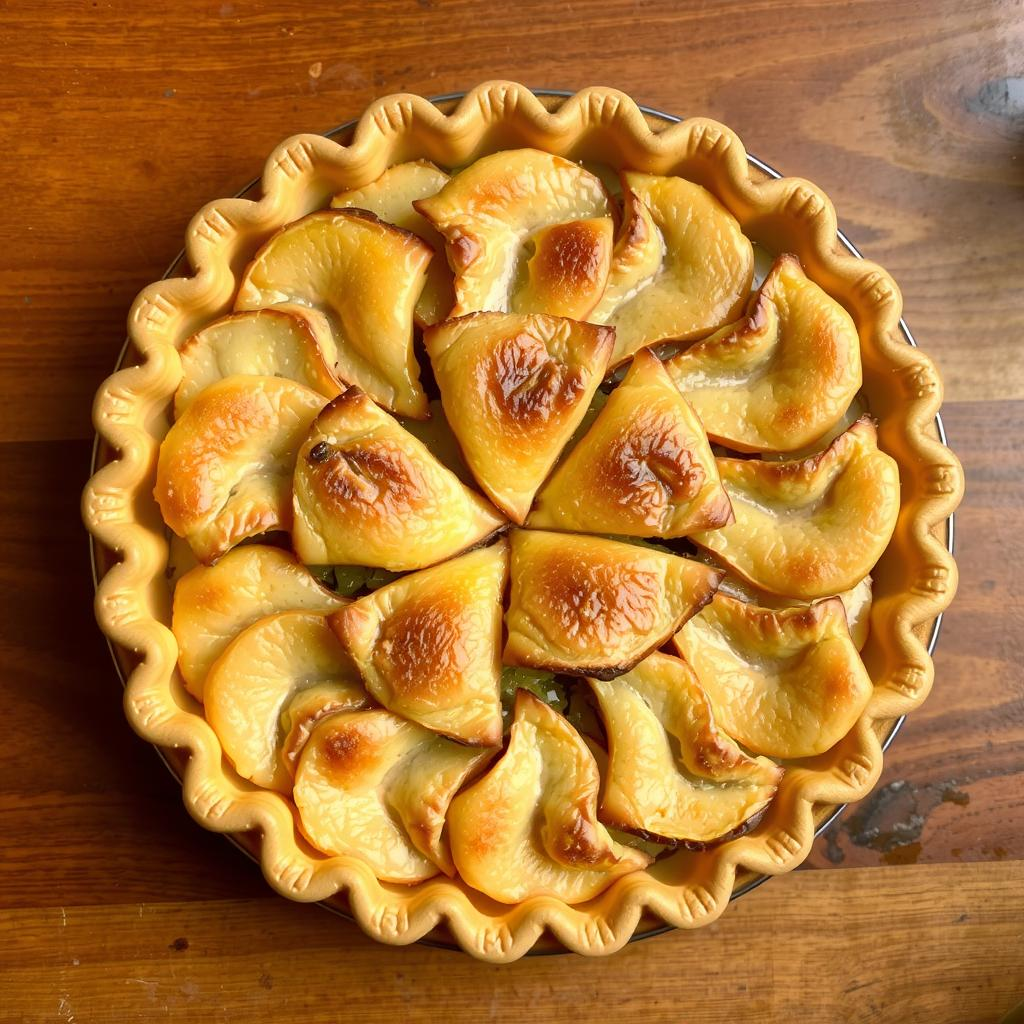pie: (77, 66, 971, 969)
